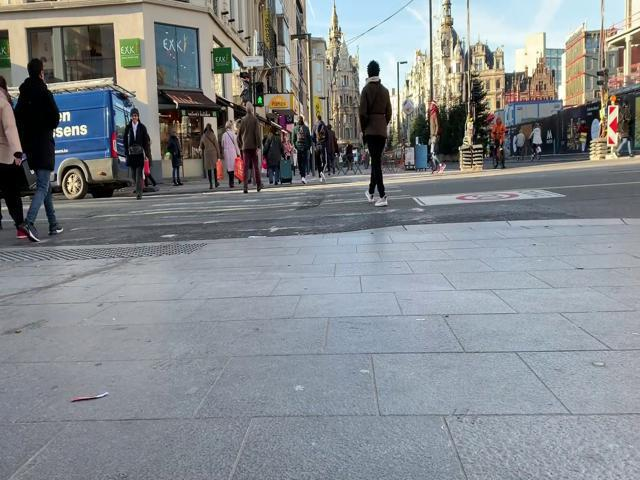shoe: (22, 222, 41, 242), (47, 222, 64, 235), (376, 196, 388, 207), (366, 189, 375, 203)
